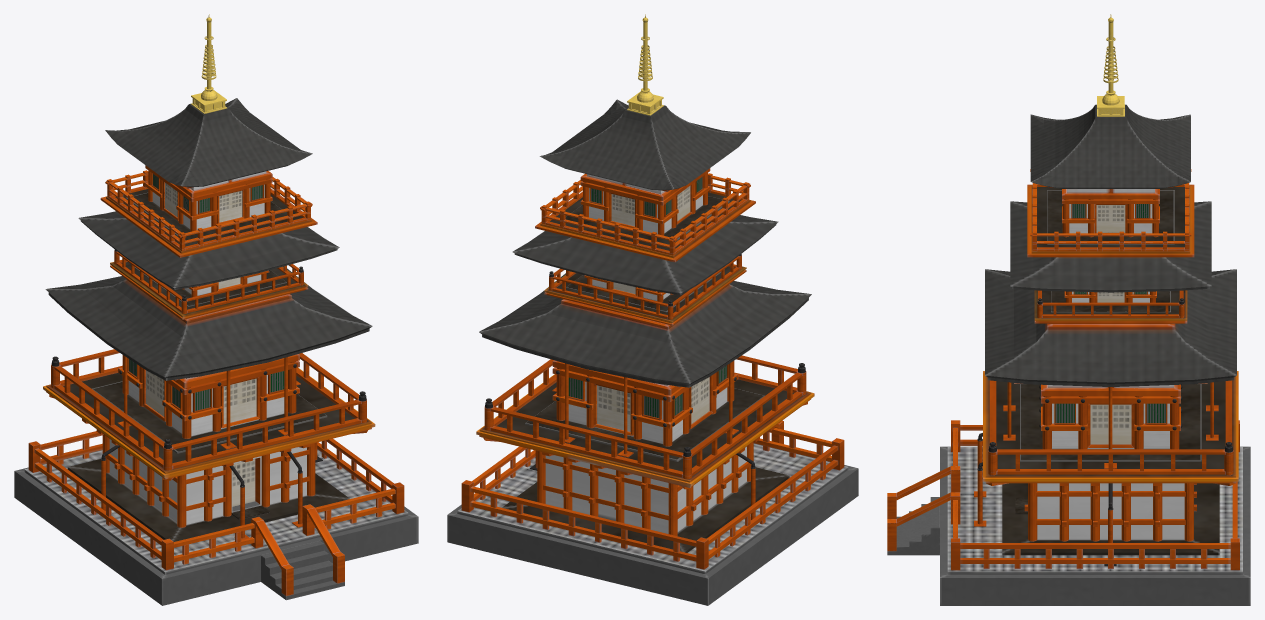
File: temple c.glb
3 views of the same model, side by side, from view 1: azimuth 30°, elevation 25°; view 2: azimuth 150°, elevation 25°; view 3: azimuth 270°, elevation 25° (orthographic). The views are drawn at different scales.
Visible parts, largest first — view 1: entity_2; view 2: entity_2; view 3: entity_2.
Part boxes in pixels (left/top/right/bottom): entity_2: left=14, top=14, right=418, bottom=605; entity_2: left=447, top=14, right=858, bottom=605; entity_2: left=887, top=14, right=1250, bottom=605.
Bounding box in the file's own units: 0.0135 × 0.0253 × 0.0158.
1 material, 1 textured.
